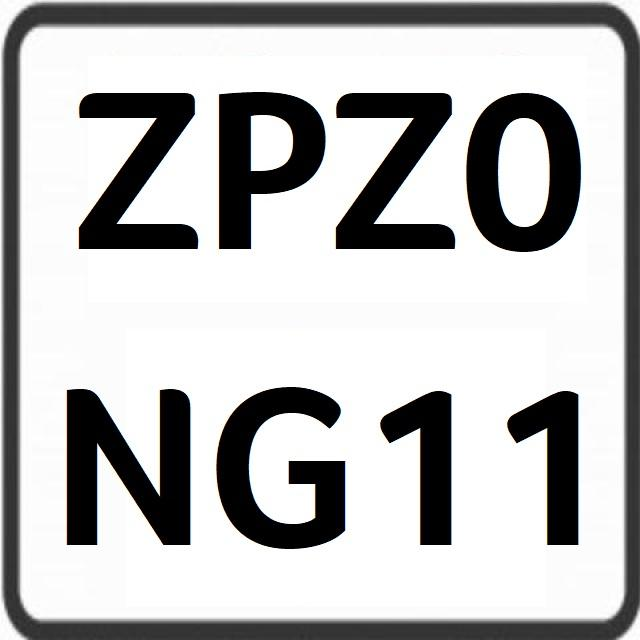0: (464, 72, 588, 257)
G: (213, 378, 354, 574)
N: (58, 357, 199, 560)
P: (213, 82, 331, 269)
Z: (72, 72, 202, 269)
